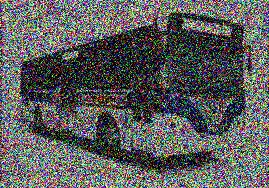bus: (20, 12, 252, 160)
